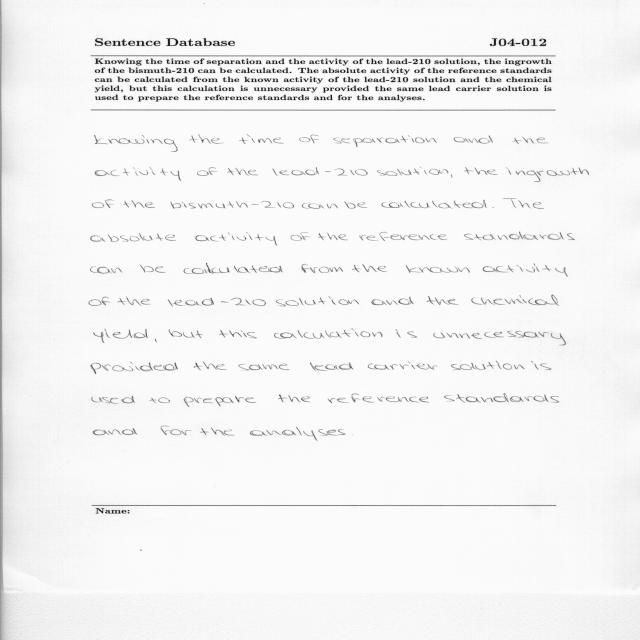word: (433, 331, 566, 345), (95, 135, 178, 152), (333, 135, 437, 147), (506, 167, 589, 182), (250, 427, 338, 441), (95, 167, 181, 181), (274, 328, 383, 339), (483, 263, 568, 277), (444, 393, 559, 403), (184, 263, 283, 274), (196, 232, 278, 245), (91, 362, 178, 374), (381, 200, 494, 209), (170, 201, 294, 209), (472, 295, 560, 306), (328, 394, 429, 403), (464, 232, 575, 240), (168, 298, 266, 307), (272, 167, 368, 176), (276, 297, 359, 307), (377, 167, 452, 178), (184, 396, 257, 407), (359, 232, 447, 241), (91, 233, 176, 242), (94, 329, 148, 343), (451, 361, 524, 370), (368, 361, 438, 370), (406, 265, 470, 273), (239, 135, 284, 145), (92, 395, 135, 404), (301, 264, 343, 273), (371, 297, 414, 305), (310, 363, 353, 371), (511, 199, 544, 209), (189, 135, 224, 144), (454, 136, 493, 144), (94, 428, 138, 435), (169, 329, 203, 338), (239, 364, 290, 370), (219, 330, 257, 338), (118, 297, 151, 306), (426, 296, 459, 305), (352, 264, 387, 272), (201, 428, 235, 436), (161, 426, 191, 435), (194, 362, 227, 370), (278, 395, 311, 403), (123, 200, 155, 208), (228, 168, 259, 176), (513, 137, 548, 144), (318, 233, 348, 241), (91, 267, 122, 274), (302, 203, 338, 209), (140, 265, 165, 273), (395, 329, 417, 338), (89, 297, 110, 306), (531, 361, 552, 370), (475, 167, 498, 175), (345, 201, 368, 209), (299, 135, 319, 144), (197, 167, 217, 176), (290, 232, 310, 241), (92, 200, 114, 208), (149, 398, 170, 404), (464, 167, 474, 174), (338, 429, 345, 435), (155, 339, 157, 342), (504, 199, 516, 199)
